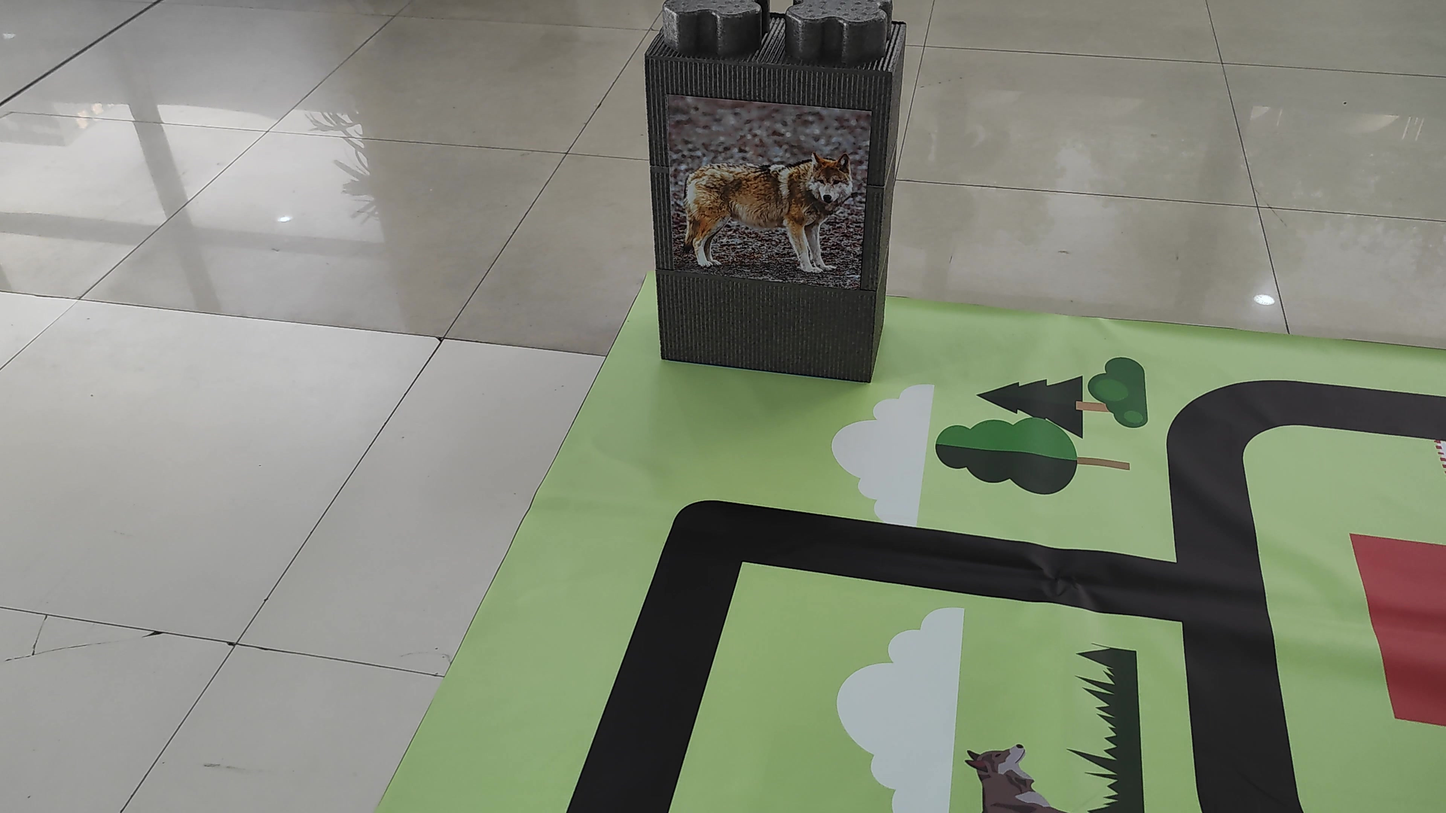wolf: (662, 117, 878, 297)
